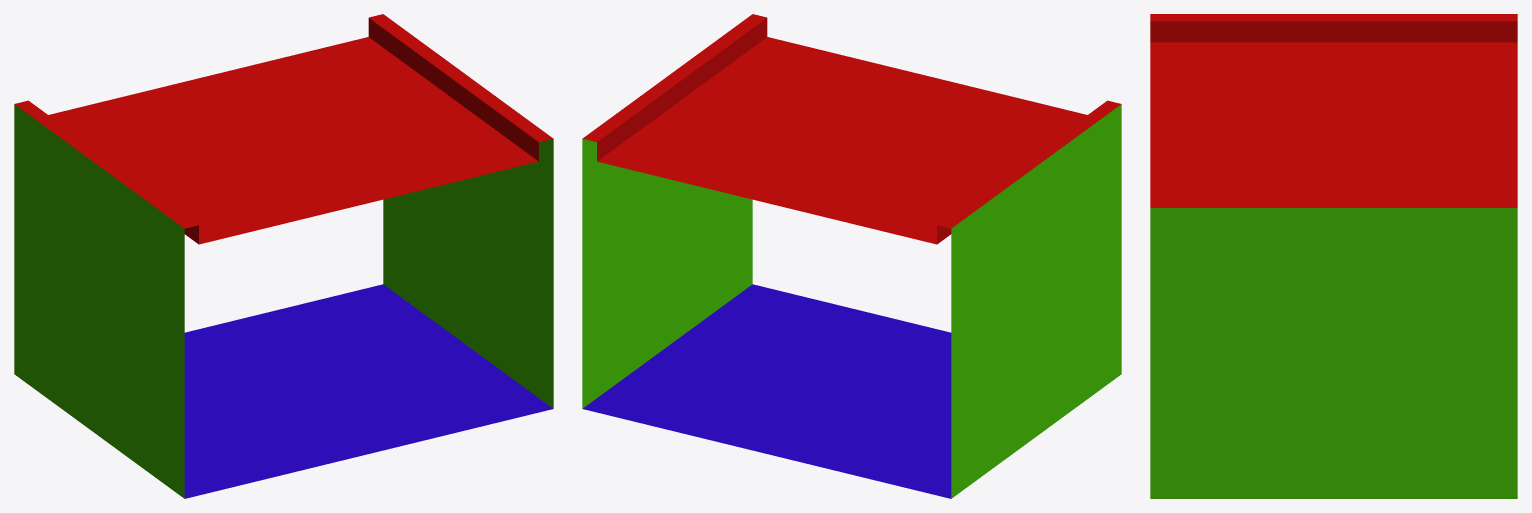
File: RoomSegment.fbx
The picture shows the model from 3 angles, left to right: view 1: azimuth 30°, elevation 25°; view 2: azimuth 150°, elevation 25°; view 3: azimuth 270°, elevation 25°; orthographic projection. The views are drawn at different scales.
Visible parts, largest first — view 1: Cube; view 2: Cube; view 3: Cube.
Boxes of the visible parts, x1=… form: Cube: x1=14, y1=14, x2=553, y2=498; Cube: x1=582, y1=14, x2=1121, y2=498; Cube: x1=1150, y1=14, x2=1517, y2=498.
Size of the model in its own units: 500 by 350 by 400.
